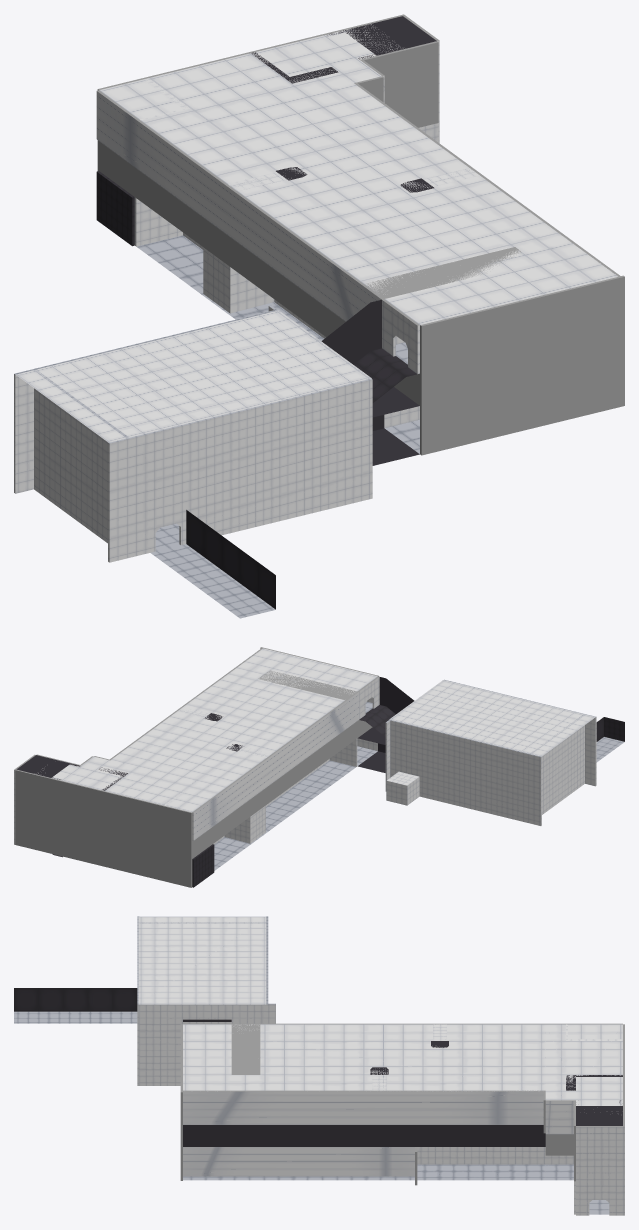
File: Level_2_Combined.fbx
The picture shows the model from 3 angles, top to bottom: view 1: azimuth 30°, elevation 25°; view 2: azimuth 150°, elevation 25°; view 3: azimuth 270°, elevation 25°; orthographic projection. The views are drawn at different scales.
Parts seen in each view (by area): view 1: Level_2A1:pPlane2, blah2, Level_2A1:pCube29, blah3, Level_2A1:pCube26, Level_2A1:pCube1, blah5, blah6, Level_2A1:pCube25, pPlane5, Level_2A1:pPlane1, blah4 (+8 smaller); view 2: Level_2A1:pPlane2, Level_2A1:pCube21, blah4, blah3, Level_2A1:pCube26, Level_2A1:pCube1, Level_2A1:pPlane1, blah5, pPlane5, Level_2A1:pCube42, Level_2A1:pCube19, blah6 (+8 smaller); view 3: Level_2A1:pPlane2, Level_2A1:pCube24, blah3, Level_2A1:pCube1, Level_2A1:pCube30, blah6, Level_2A1:pPlane1, Level_2A1:pCube46, blah9, Level_2A1:pCube17, Level_2A1:pCube42, blah1 (+5 smaller).
Boxes of the visible parts, left/top/right/bottom form: Level_2A1:pPlane2: left=99, top=24, right=617, bottom=324; blah2: left=108, top=378, right=372, bottom=562; Level_2A1:pCube29: left=420, top=275, right=624, bottom=455; blah3: left=16, top=310, right=371, bottom=442; Level_2A1:pCube26: left=96, top=90, right=383, bottom=321; Level_2A1:pCube1: left=99, top=141, right=419, bottom=405; blah5: left=34, top=370, right=128, bottom=543; blah6: left=150, top=510, right=275, bottom=618; Level_2A1:pCube25: left=363, top=41, right=438, bottom=127; pPlane5: left=321, top=299, right=416, bottom=402; Level_2A1:pPlane1: left=136, top=31, right=419, bottom=453; blah4: left=14, top=310, right=275, bottom=493; Level_2A1:pPlane2: left=34, top=648, right=377, bottom=812; Level_2A1:pCube21: left=15, top=769, right=192, bottom=887; blah4: left=390, top=720, right=541, bottom=825; blah3: left=389, top=680, right=595, bottom=756; Level_2A1:pCube26: left=192, top=691, right=358, bottom=840; Level_2A1:pCube1: left=192, top=702, right=372, bottom=858; Level_2A1:pPlane1: left=52, top=746, right=377, bottom=870; blah5: left=530, top=714, right=584, bottom=814; pPlane5: left=359, top=677, right=414, bottom=736; Level_2A1:pCube42: left=258, top=670, right=356, bottom=700; Level_2A1:pCube19: left=213, top=759, right=329, bottom=844; blah6: left=596, top=717, right=624, bottom=762; Level_2A1:pPlane2: left=183, top=1024, right=622, bottom=1105; Level_2A1:pCube24: left=183, top=1090, right=543, bottom=1124; blah3: left=138, top=916, right=266, bottom=1004; Level_2A1:pCube1: left=183, top=1125, right=573, bottom=1155; Level_2A1:pCube30: left=183, top=1147, right=414, bottom=1176; blah6: left=14, top=988, right=137, bottom=1023; Level_2A1:pPlane1: left=183, top=1100, right=620, bottom=1214; Level_2A1:pCube46: left=576, top=1126, right=624, bottom=1215; blah9: left=139, top=1003, right=275, bottom=1049; Level_2A1:pCube17: left=417, top=1147, right=573, bottom=1164; Level_2A1:pCube42: left=231, top=1024, right=260, bottom=1074; blah1: left=139, top=1050, right=180, bottom=1085.
Bounding box in the file's own units: 126 × 26 × 150.
9 materials, 6 textured.
